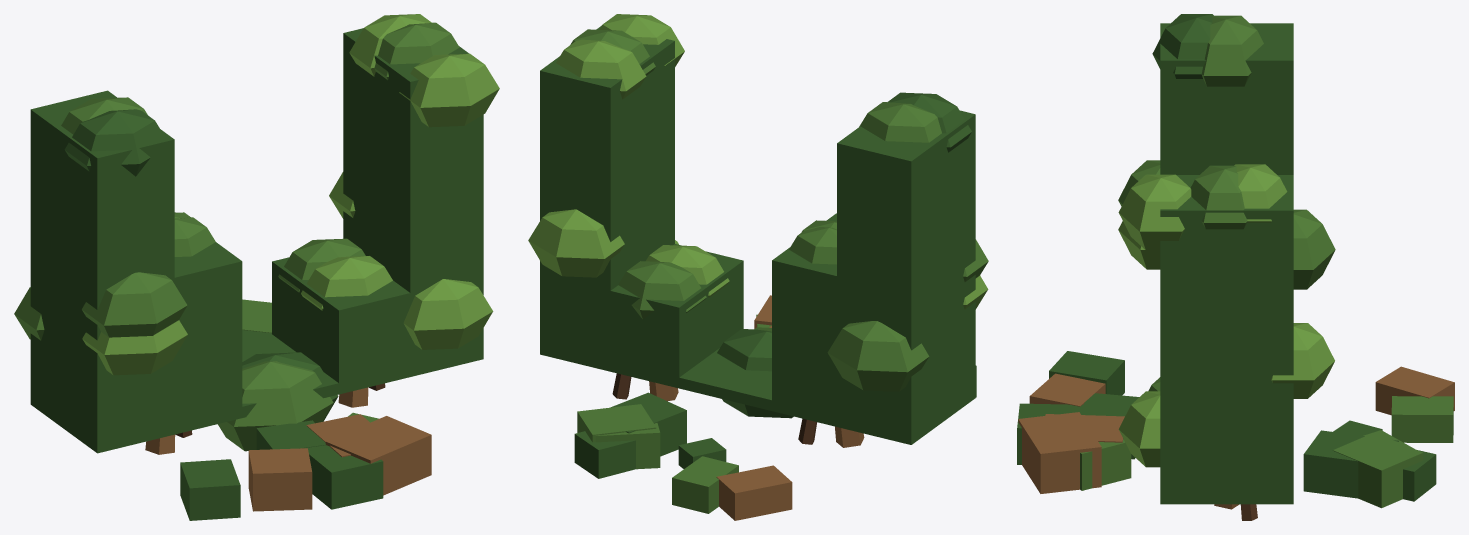
Rendered from hedge_breach.glb.
3 views of the same model, side by side, from view 1: azimuth 30°, elevation 25°; view 2: azimuth 150°, elevation 25°; view 3: azimuth 270°, elevation 25° (orthographic). The views are drawn at different scales.
Visible parts, largest first — view 1: wall_hedge_breach; view 2: wall_hedge_breach; view 3: wall_hedge_breach.
Part boxes in pixels (box(x1,y1,x2,y2)): wall_hedge_breach: box(14, 14, 499, 520); wall_hedge_breach: box(528, 14, 988, 520); wall_hedge_breach: box(1017, 14, 1454, 520).
Bounding box in the file's own units: 2.06 × 1.84 × 1.97.
